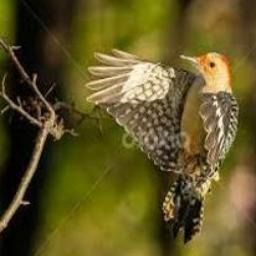Woodpecker: (86, 48, 240, 243)
